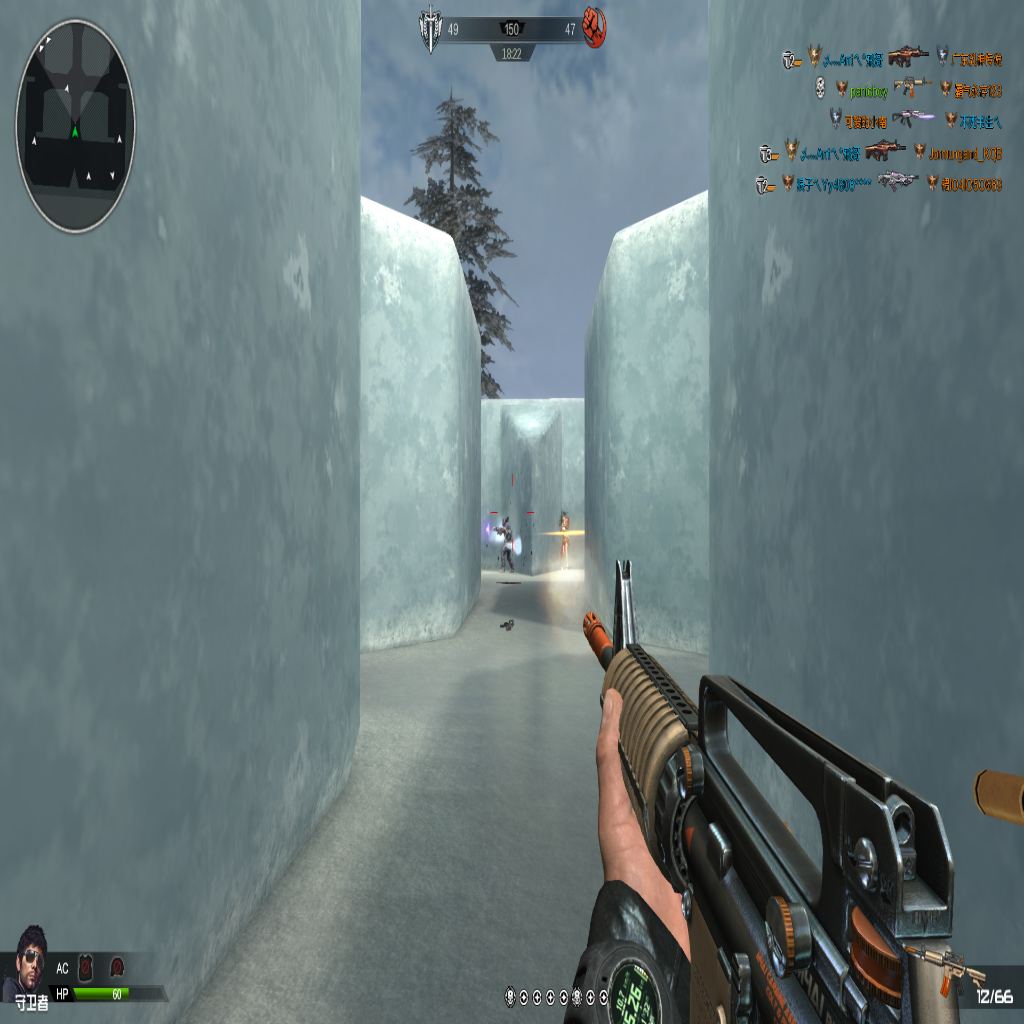tt: (499, 517, 515, 573), (558, 507, 570, 569)
